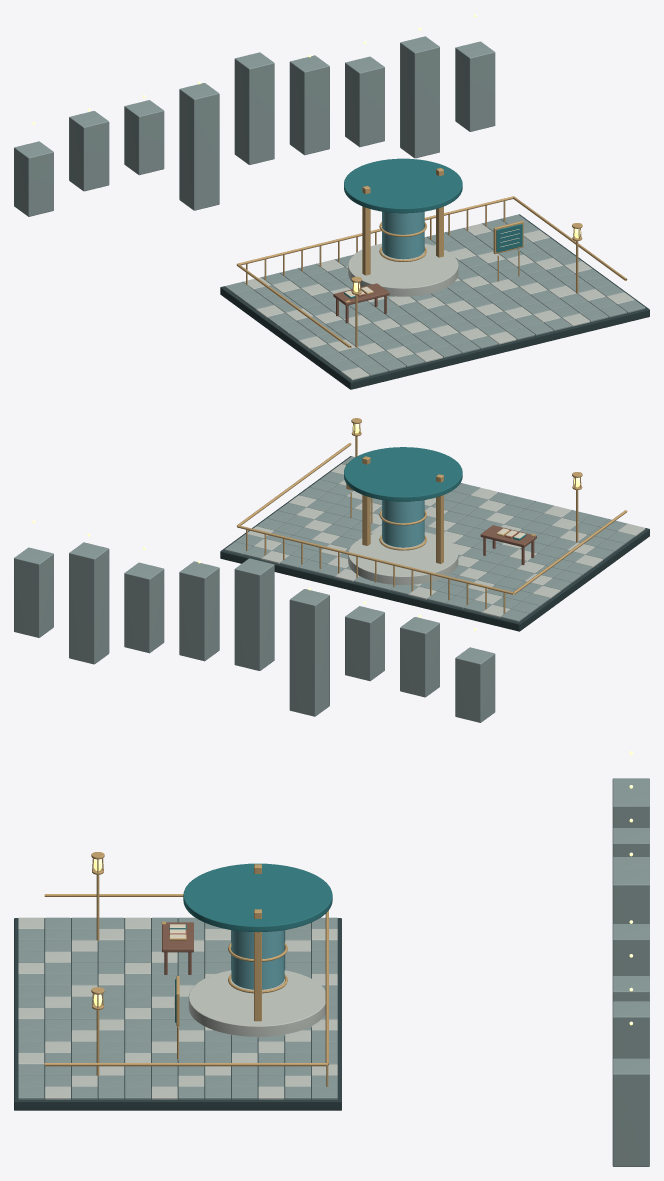
Rendered from ending.glb.
3 renders of one model, top to bottom at view 1: azimuth 30°, elevation 25°; view 2: azimuth 150°, elevation 25°; view 3: azimuth 270°, elevation 25°, orthographic. The views are drawn at different scales.
Visible parts, largest first — view 1: Static_2_Salt limestone.005, Static_1_Carved pale stone.005, Static_6_Enamel teal.006, Static_3_Aged brass.006, Static_0_Ink iron.005, Static_4_Sea glass.005, Static_7_Walnut.005; view 2: Static_2_Salt limestone.005, Static_1_Carved pale stone.005, Static_6_Enamel teal.006, Static_3_Aged brass.006, Static_0_Ink iron.005, Static_4_Sea glass.005, Static_7_Walnut.005; view 3: Static_2_Salt limestone.005, Static_1_Carved pale stone.005, Static_6_Enamel teal.006, Static_0_Ink iron.005, Static_3_Aged brass.006, Static_4_Sea glass.005, Static_7_Walnut.005.
Boxes of the visible parts, <box> form: Static_2_Salt limestone.005: <box>14,36,645,375</box>; Static_1_Carved pale stone.005: <box>243,223,634,380</box>; Static_6_Enamel teal.006: <box>344,158,522,298</box>; Static_3_Aged brass.006: <box>236,168,627,348</box>; Static_0_Ink iron.005: <box>220,214,649,389</box>; Static_4_Sea glass.005: <box>382,211,424,259</box>; Static_7_Walnut.005: <box>333,283,389,323</box>; Static_2_Salt limestone.005: <box>14,456,634,722</box>; Static_1_Carved pale stone.005: <box>247,464,645,617</box>; Static_6_Enamel teal.006: <box>344,447,526,540</box>; Static_3_Aged brass.006: <box>236,418,627,613</box>; Static_0_Ink iron.005: <box>220,456,649,631</box>; Static_4_Sea glass.005: <box>382,500,424,547</box>; Static_7_Walnut.005: <box>480,525,536,565</box>; Static_2_Salt limestone.005: <box>18,778,649,1166</box>; Static_1_Carved pale stone.005: <box>18,917,337,1099</box>; Static_6_Enamel teal.006: <box>169,863,332,1022</box>; Static_0_Ink iron.005: <box>14,918,341,1110</box>; Static_3_Aged brass.006: <box>44,852,328,1086</box>; Static_4_Sea glass.005: <box>231,930,284,989</box>; Static_7_Walnut.005: <box>162,922,193,974</box>.
Size of the model in its own units: 25.4 by 6.77 by 23.85.
